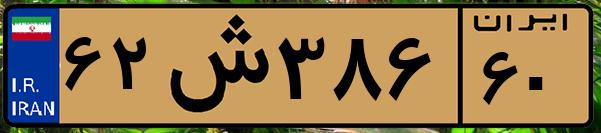0: (525, 38, 570, 115)
2: (110, 28, 158, 98)
3: (270, 28, 330, 110)
6: (385, 28, 445, 110), (57, 26, 110, 100), (475, 38, 525, 113)
8: (330, 28, 385, 110)
ش: (158, 12, 270, 120)
